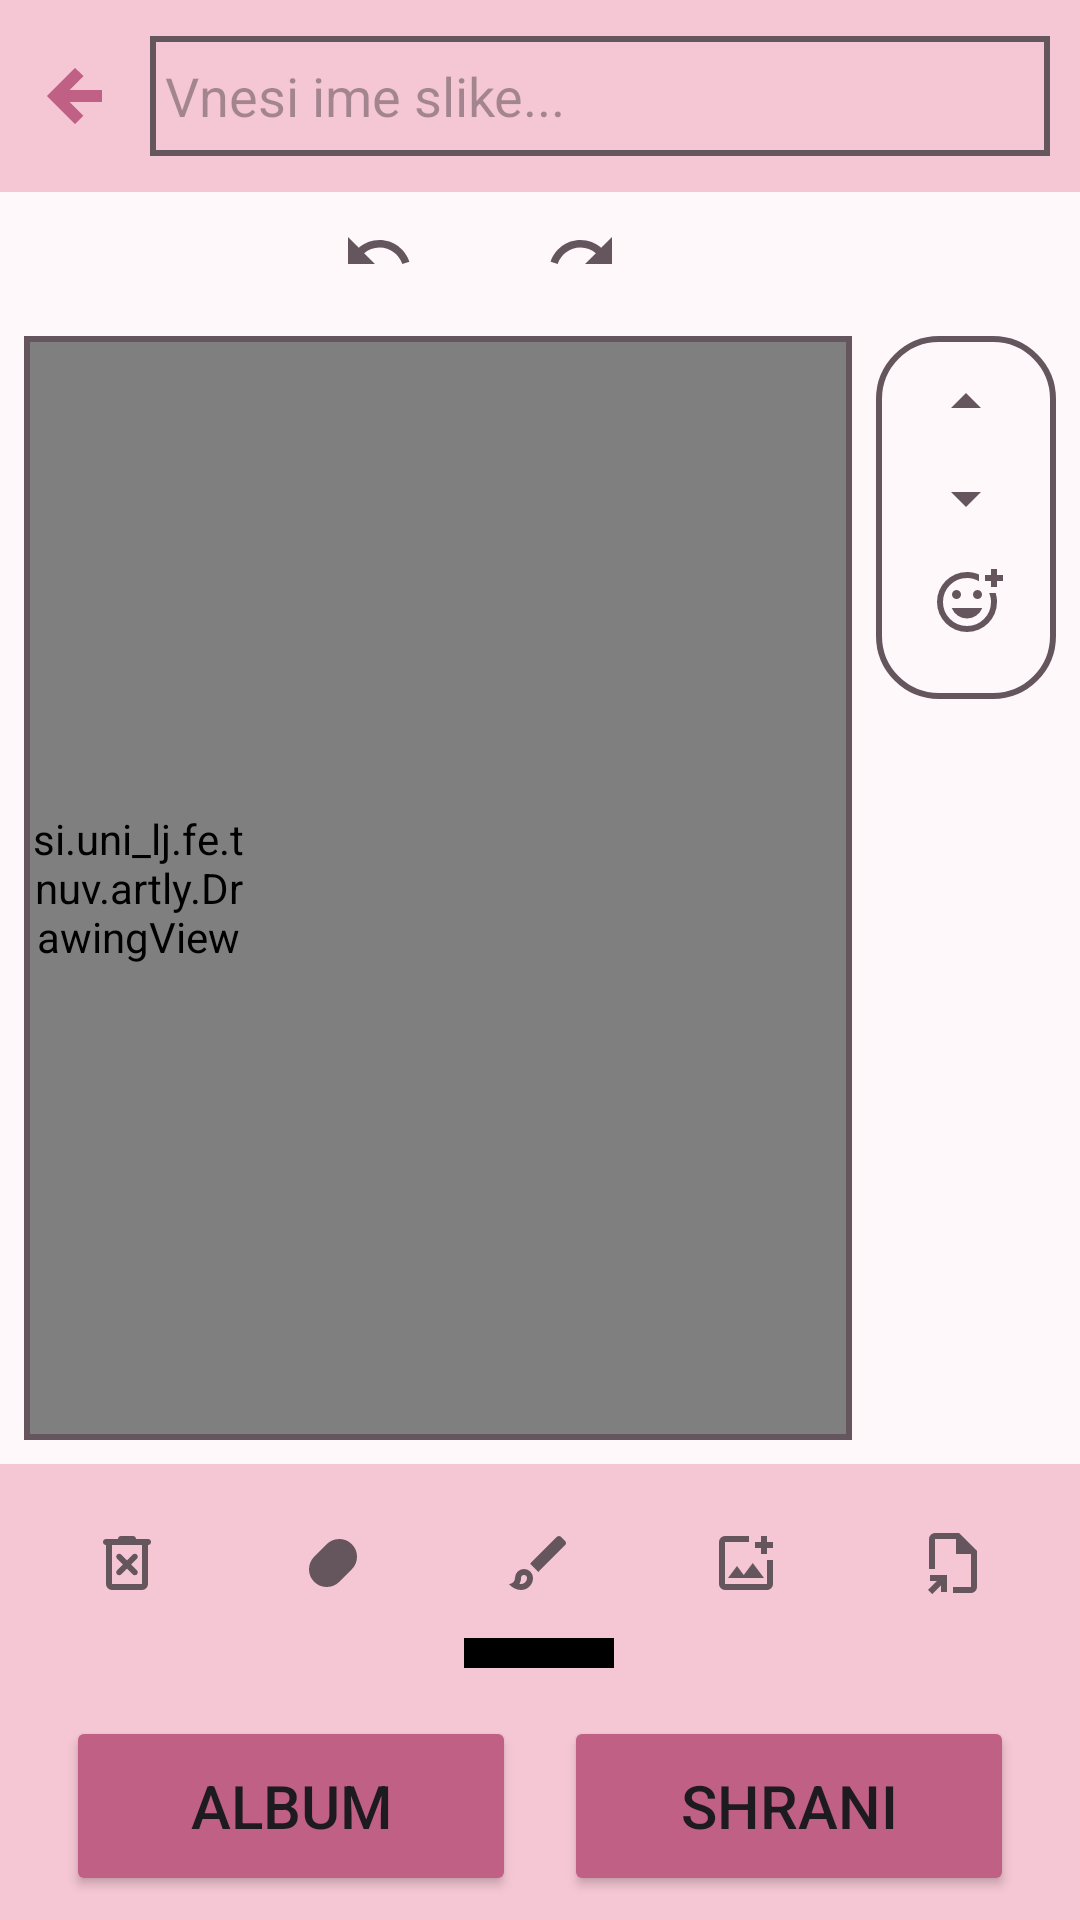

Screen size 1080w x 1920h. Icon name, then its center in pixels as point (x, y):
add picture: point (746, 1563)
delete: point (127, 1563)
eraser: point (333, 1563)
export: point (952, 1563)
Nazaj: point (74, 96)
pencil: point (537, 1563)
ustvari nalepko: point (970, 600)
